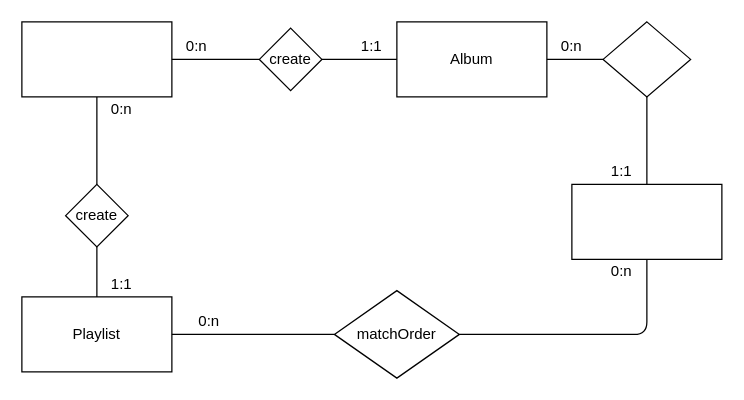
The diagram is 744 pixels wide and 400 high, and some of its shapes have lost their labels. The centre of each missing label's shape, as x and y in pixels:
"made" belongs at point 646,59.
"Song" belongs at point 646,221.
"User" belongs at point 96,59.
